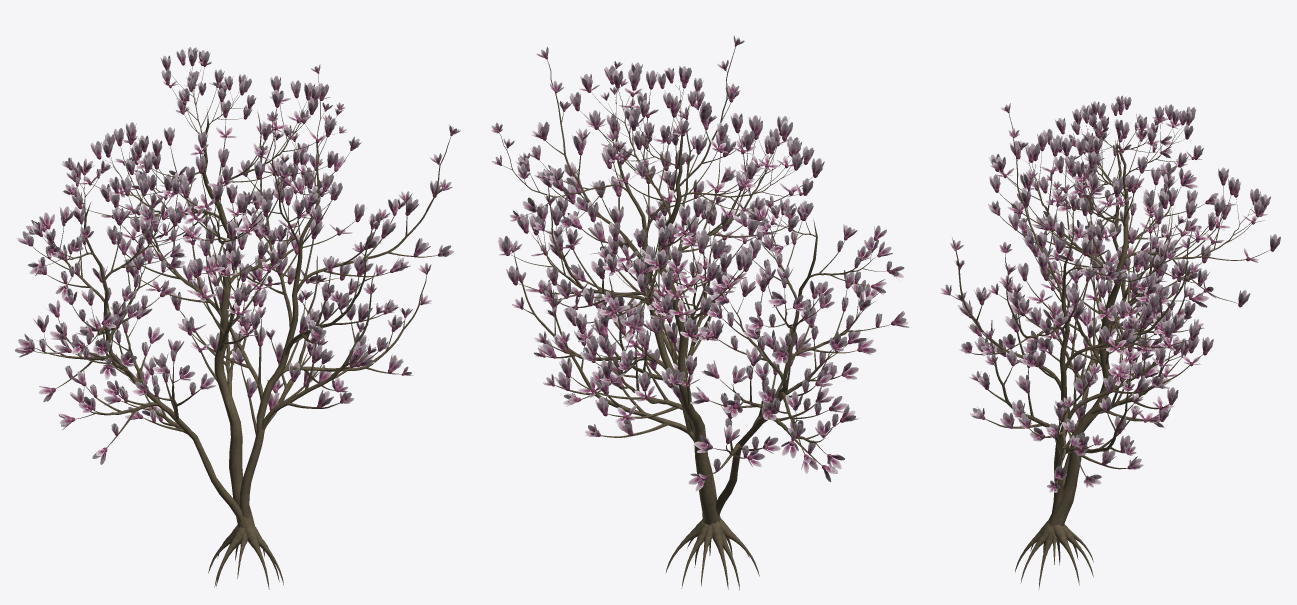
Rendered from magnolia.glb.
3 renders of one model, left to right at view 1: azimuth 30°, elevation 25°; view 2: azimuth 150°, elevation 25°; view 3: azimuth 270°, elevation 25°, orthographic. The views are drawn at different scales.
Visible parts, largest first — view 1: Petal04_1, Bark01_1, Petal02_1; view 2: Petal04_1, Bark01_1, Petal02_1; view 3: Petal04_1, Bark01_1, Petal02_1.
Boxes of the visible parts, left/top/right/bottom form: Petal04_1: left=15, top=47, right=460, bottom=464; Bark01_1: left=32, top=67, right=450, bottom=589; Petal02_1: left=28, top=62, right=452, bottom=452; Petal04_1: left=491, top=35, right=909, bottom=491; Bark01_1: left=496, top=46, right=890, bottom=590; Petal02_1: left=496, top=44, right=895, bottom=480; Petal04_1: left=940, top=95, right=1280, bottom=492; Bark01_1: left=951, top=106, right=1269, bottom=588; Petal02_1: left=948, top=106, right=1274, bottom=488.
Bounding box in the file's own units: 280 × 388 × 221.
Materials: 3 (3 with a texture image).
